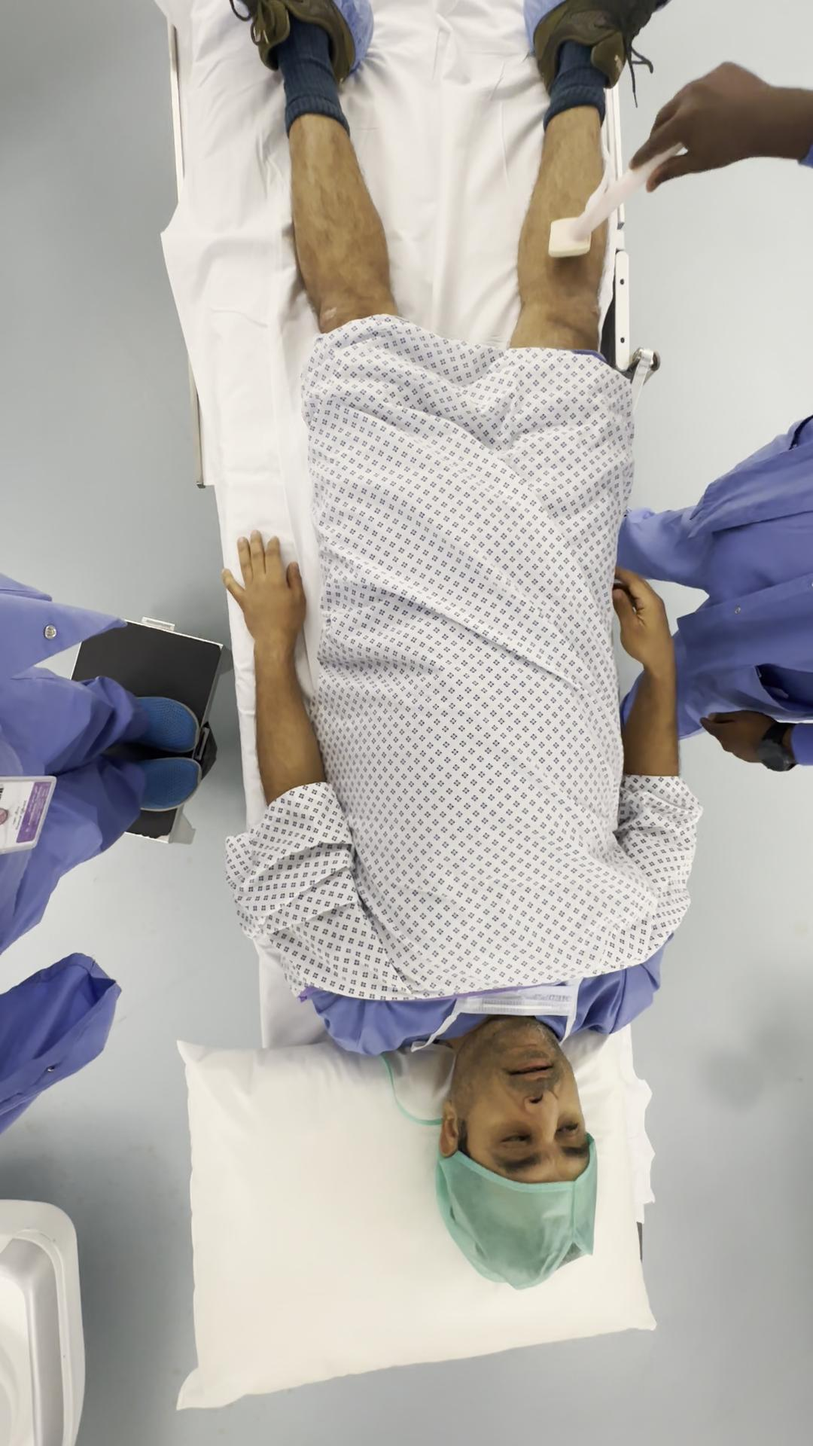bed: (158, 0, 700, 1405)
patient: (223, 0, 700, 1288)
prepstick: (548, 144, 683, 257)
